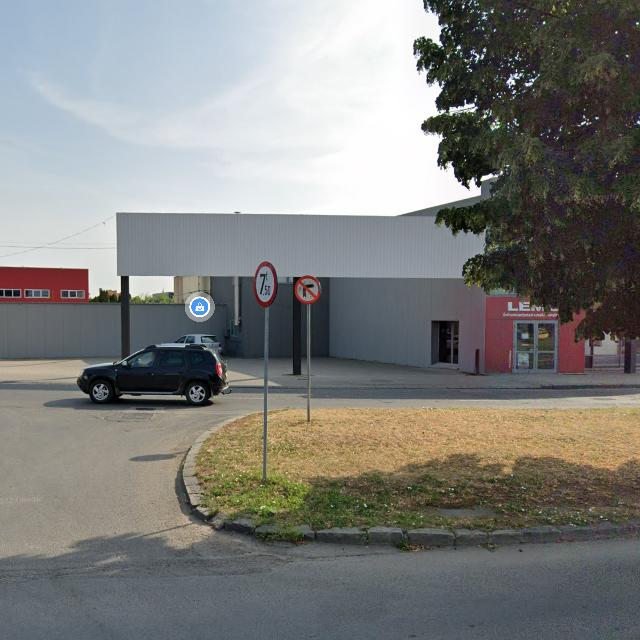forb_right: (294, 276, 322, 304)
forb_weight_over_7.5t: (252, 261, 278, 307)
